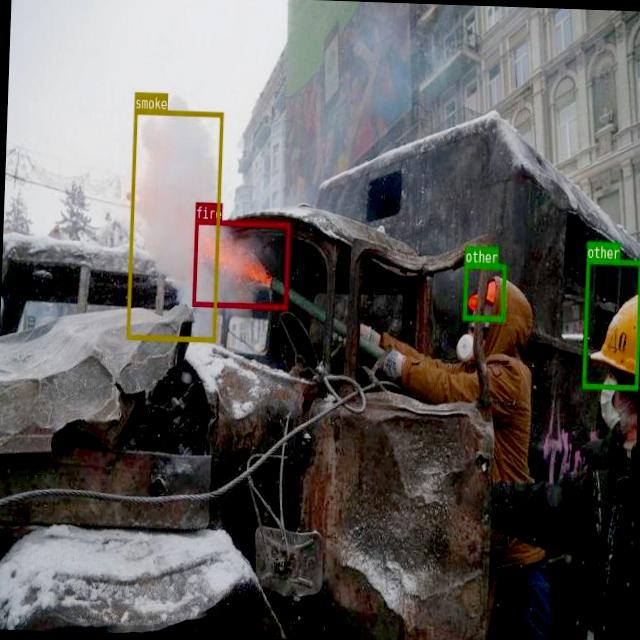fire: (191, 218, 289, 307)
smoke: (125, 108, 222, 340)
